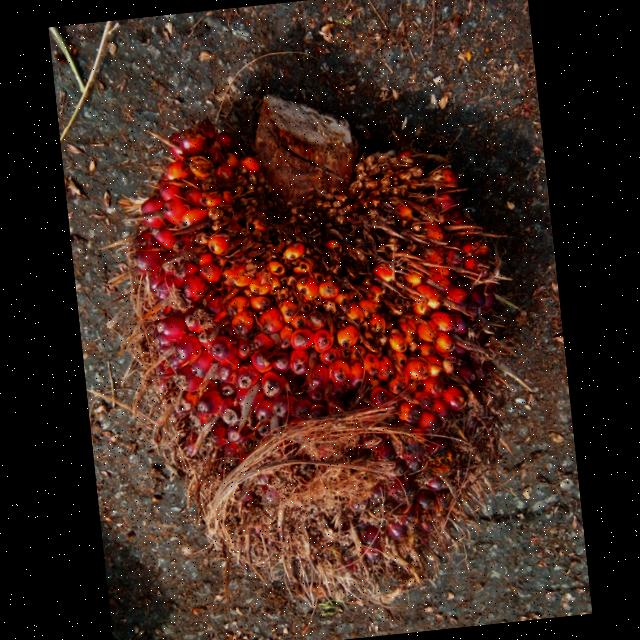Ripe: (139, 124, 501, 586)
